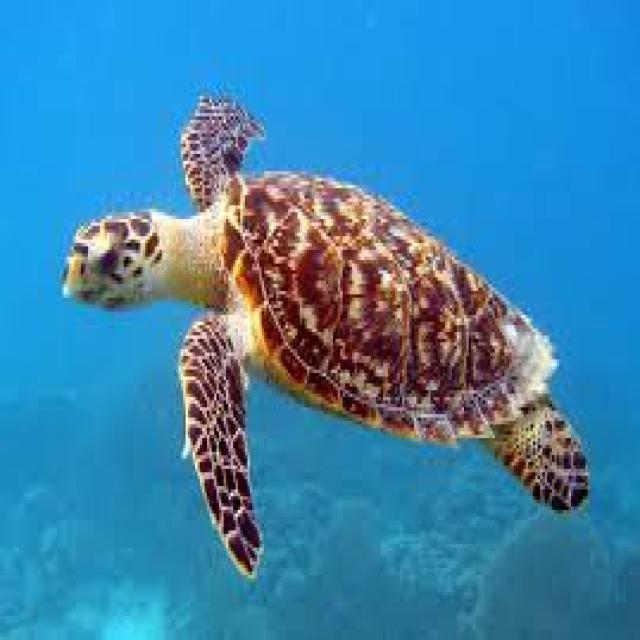turtle: (62, 161, 491, 505)
